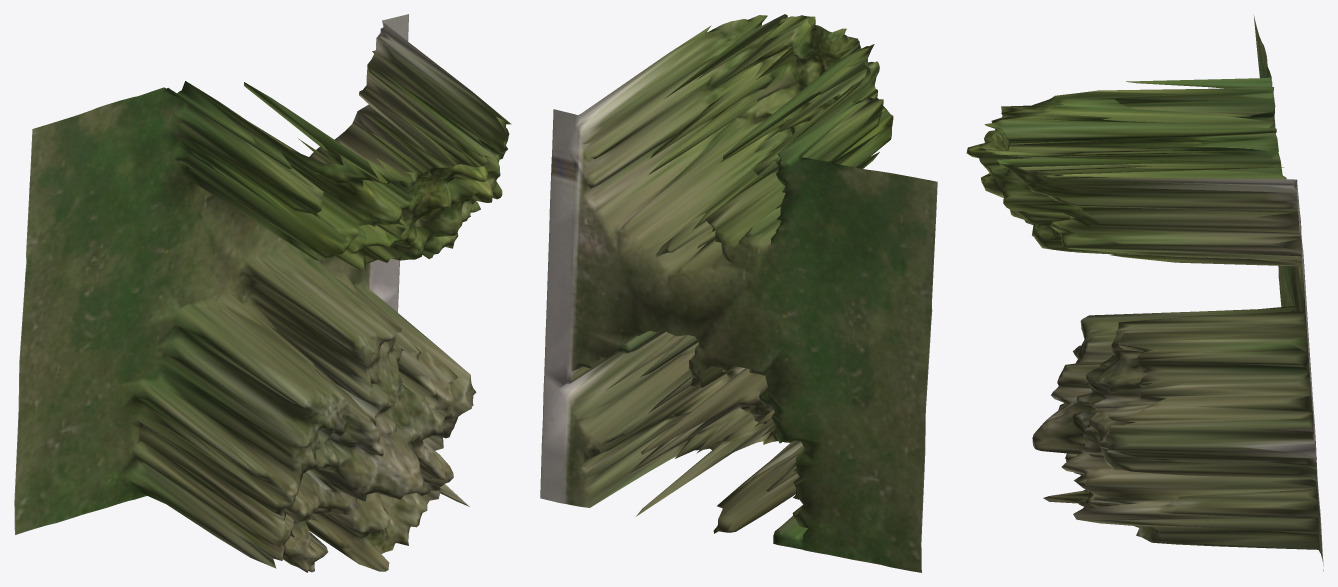
The model's file is map_50_80.obj.
3 views of the same model, side by side, from view 1: azimuth 30°, elevation 25°; view 2: azimuth 150°, elevation 25°; view 3: azimuth 270°, elevation 25° (orthographic). The views are drawn at different scales.
Bounding box in the file's own units: 10 × 10 × 8.49.
Materials: 1 (1 with a texture image).
